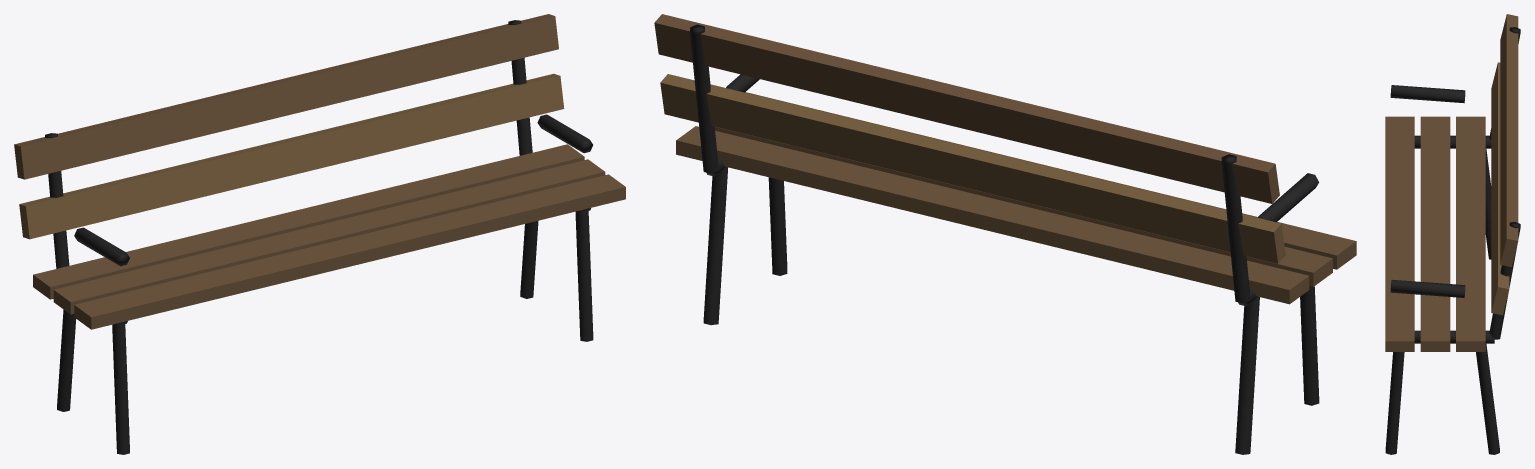
The model's file is street.furniture.dales_bench.glb.
3 renders of one model, left to right at view 1: azimuth 30°, elevation 25°; view 2: azimuth 150°, elevation 25°; view 3: azimuth 270°, elevation 25°, orthographic. The views are drawn at different scales.
Parts seen in each view (by area): view 1: main__paint_653, main__paint_754, main__steel_222; view 2: main__paint_653, main__paint_754, main__steel_222; view 3: main__paint_653, main__steel_222, main__paint_754.
Part boxes in pixels (box(x1,y1,x2,y2)): main__paint_653: box(14, 14, 625, 329); main__paint_754: box(19, 73, 564, 239); main__steel_222: box(45, 20, 593, 454); main__paint_653: box(654, 14, 1356, 304); main__paint_754: box(660, 74, 1285, 263); main__steel_222: box(689, 24, 1319, 454); main__paint_653: box(1385, 14, 1518, 351); main__steel_222: box(1385, 27, 1520, 454); main__paint_754: box(1491, 62, 1509, 315).
Bounding box in the file's own units: 1.8 × 0.8554 × 0.4588.
